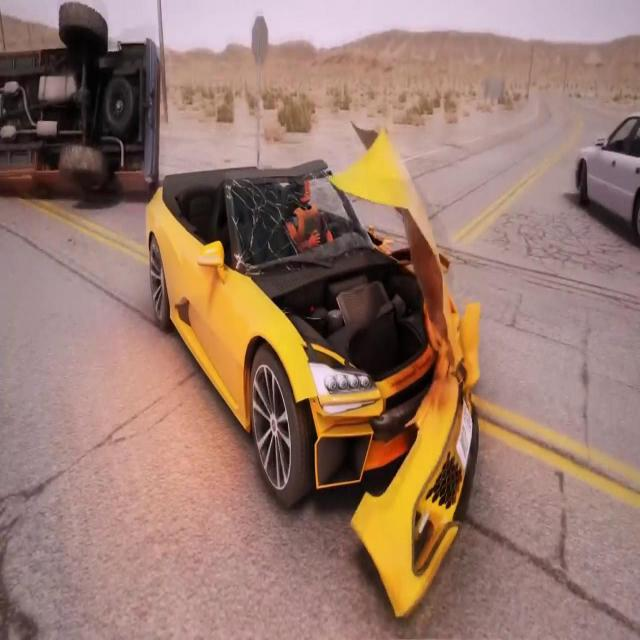accident: (140, 116, 483, 615), (2, 2, 165, 208)
